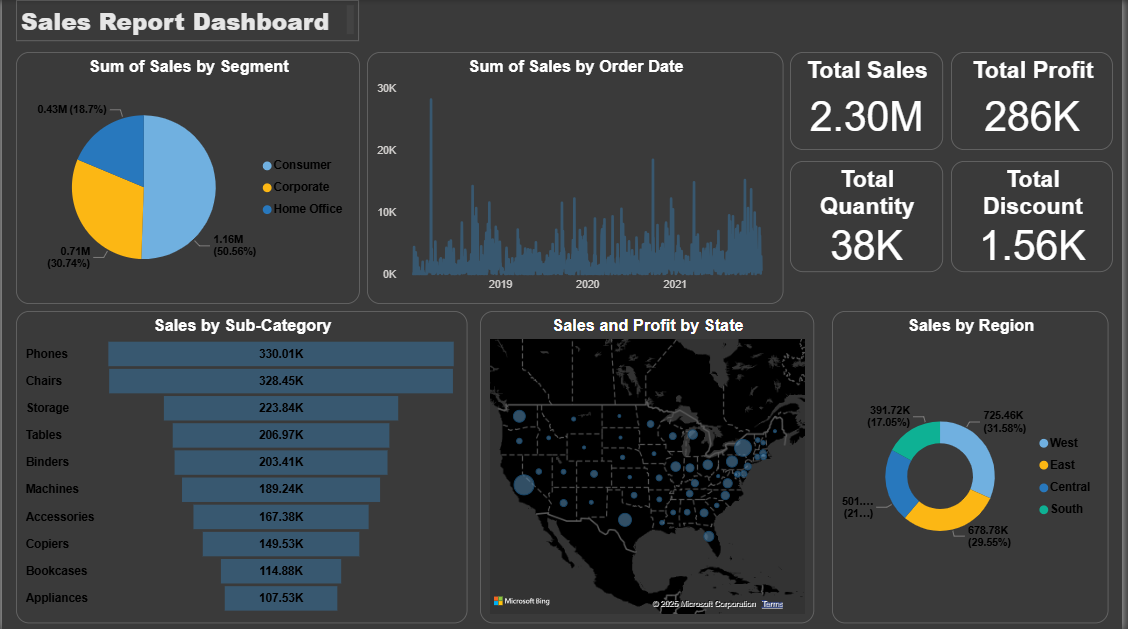

The dashboard page shown, as its layout file describes it:
{"tool":"powerbi","page":{"name":"Page 1","canvas":[1280,720],"ordinal":0},"visuals":[{"type":"donutChart","title":"Sales by Region","fields":{"Category":["Orders.Region"],"Y":["Sum(Orders.Sales)"]},"box":[948,355.4,316,356.5],"z":0},{"type":"funnel","title":"Sales by Sub-Category","fields":{"Category":["Orders.Sub-Category"],"Y":["Sum(Orders.Sales)"]},"box":[16.2,355.4,516.3,356.5],"z":1000},{"type":"map","title":"Sales and Profit by State","fields":{"Category":["Orders.State"],"Size":["Sum(Orders.Sales)"]},"box":[546.4,355.4,382,356.5],"z":2000},{"type":"pieChart","fields":{"Category":["Orders.Segment"],"Y":["Sum(Orders.Sales)"]},"box":[16,59.4,393.1,288],"z":3000},{"type":"lineChart","fields":{"Y":["Sum(Orders.Sales)"],"Category":["Orders.Order Date"]},"box":[416.7,59,475.8,288.2],"z":4000},{"type":"card","title":"Total Sales","fields":{"Values":["Sum(Orders.Sales)"]},"box":[900.6,59,174.8,112.3],"z":5000},{"type":"card","title":"Total Quantity","fields":{"Values":["Sum(Orders.Quantity)"]},"box":[900.6,184.1,174.8,127.3],"z":6000},{"type":"card","title":"Total Profit","fields":{"Values":["Sum(Orders.Profit)"]},"box":[1084.6,59,185.2,112.3],"z":7000},{"type":"card","title":"Total Discount","fields":{"Values":["Sum(Orders.Discount)"]},"box":[1084.6,184.1,185.2,127.3],"z":8000},{"type":"textbox","box":[16.2,0,392.4,47.5],"z":9000}]}

Visuals, with their boxes in screenshot pixels (x1, y1, x2, y2), scaled from the page's 1280x720 canvas onto the 1128x629 screenshot:
"Sales by Region" donutChart: bbox(835, 310, 1114, 622)
"Sales by Sub-Category" funnel: bbox(14, 310, 469, 622)
"Sales and Profit by State" map: bbox(482, 310, 818, 622)
pieChart - Orders.Segment x Sum(Orders.Sales): bbox(14, 52, 361, 303)
lineChart - Sum(Orders.Sales) x Orders.Order Date: bbox(367, 52, 787, 303)
"Total Sales" card: bbox(794, 52, 948, 150)
"Total Quantity" card: bbox(794, 161, 948, 272)
"Total Profit" card: bbox(956, 52, 1119, 150)
"Total Discount" card: bbox(956, 161, 1119, 272)
textbox: bbox(14, 0, 360, 41)
